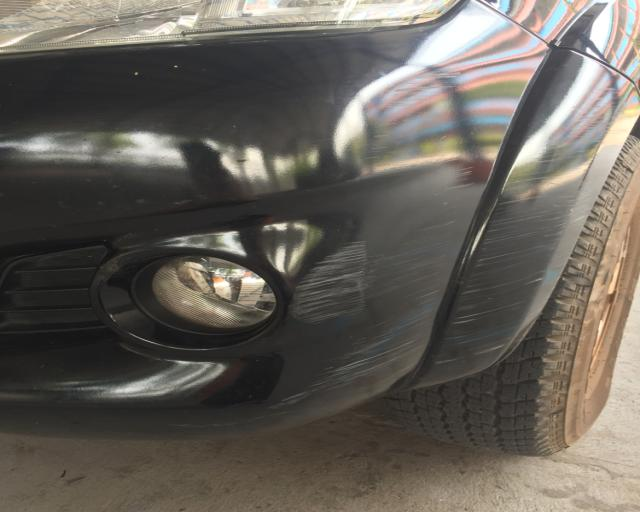scratch: (182, 164, 478, 430), (436, 87, 624, 364), (357, 68, 465, 158)
